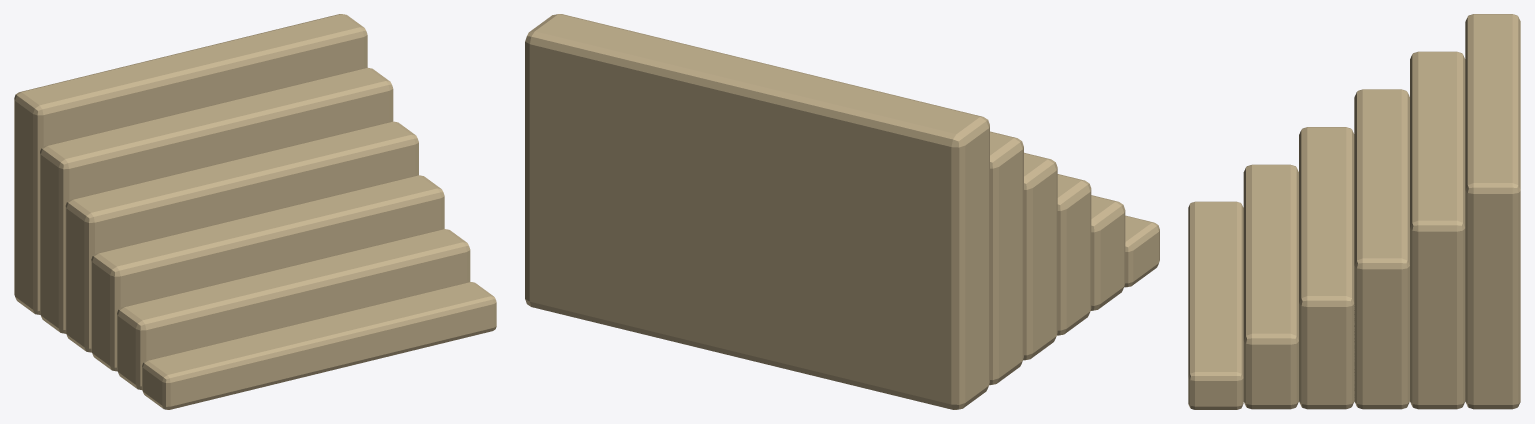
The model's file is Parkour_Stairs.fbx.
3 views of the same model, side by side, from view 1: azimuth 30°, elevation 25°; view 2: azimuth 150°, elevation 25°; view 3: azimuth 270°, elevation 25° (orthographic). The views are drawn at different scales.
Visible parts, largest first — view 1: Stairs; view 2: Stairs; view 3: Stairs.
Part boxes in pixels (x1,y1,x2,y2): Stairs: (14,14,496,409); Stairs: (525,14,1159,409); Stairs: (1188,14,1520,409).
Bounding box in the file's own units: 3 × 1.8 × 2.4.
